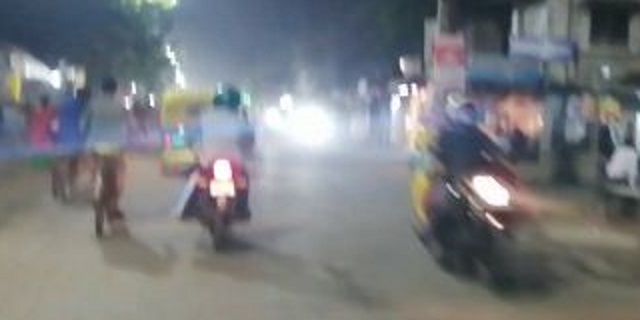Motorbike: (417, 101, 528, 287), (191, 78, 259, 246)
